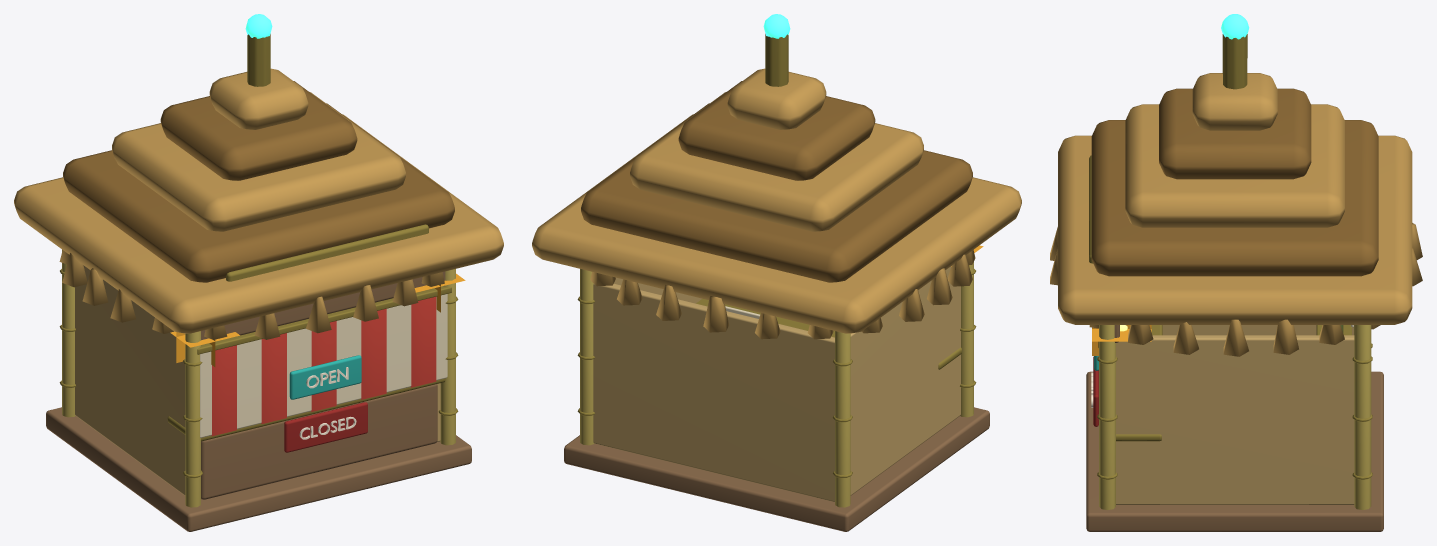
Rendered from jungle_station.glb.
The picture shows the model from 3 angles, left to right: view 1: azimuth 30°, elevation 25°; view 2: azimuth 150°, elevation 25°; view 3: azimuth 270°, elevation 25°; orthographic projection. The views are drawn at different scales.
Parts seen in each view (by area): view 1: Station, Shutter, ClosedSign, OpenDressing; view 2: Station; view 3: Station.
Part boxes in pixels (bbox=[...]): Station: bbox=[14, 14, 503, 531]; Shutter: bbox=[197, 286, 451, 437]; ClosedSign: bbox=[284, 402, 367, 452]; OpenDressing: bbox=[289, 355, 361, 399]; Station: bbox=[532, 14, 1021, 531]; Station: bbox=[1050, 14, 1422, 531].
Bounding box in the file's own units: 5.88 × 6.95 × 5.26.
